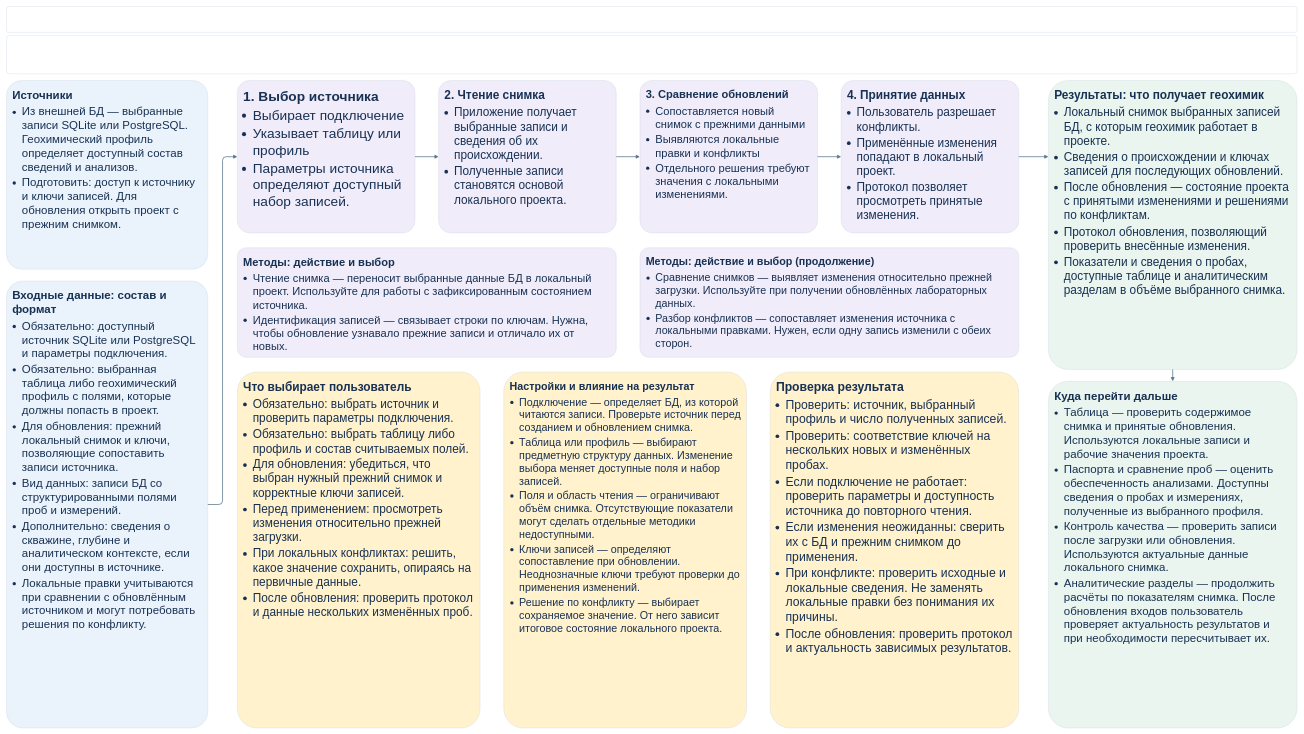
Some shapes in this 1304 by 734 pixel diagram are drawn without their labels. The shapes that lost their labels are listed below. From the top down, each one's centre as x and y in pixels, then its label:
At pixel 651 19: "02 Снимок базы данных".
At pixel 651 54: "Где открыть Файл → Снимок базы данных / Импорт геохимии из БД".
